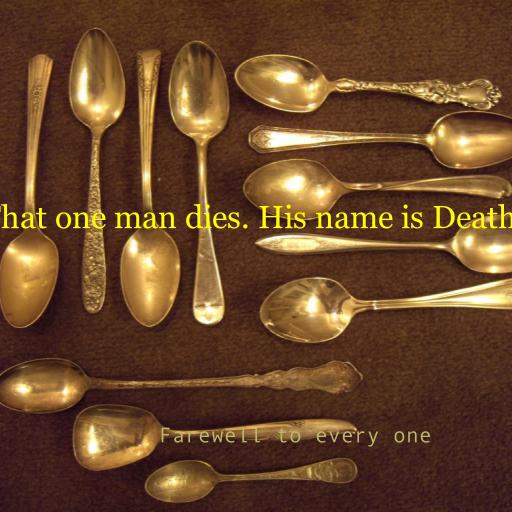Andale Mono: (158, 427, 432, 447)
Georgia: (0, 203, 512, 234)
